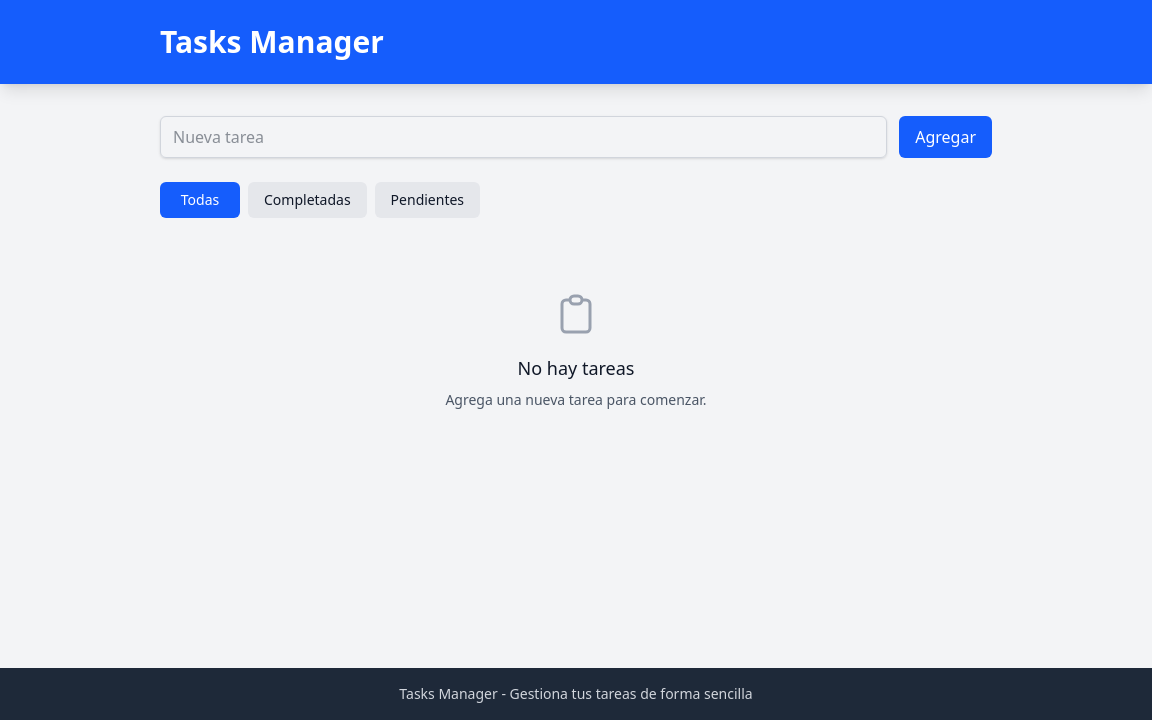
Test: App › complete user flow: add -> view -> complete -> filter › allows adding a new task
Type "Buy groceries" into the field with placeholder "Nueva tarea".
click(524, 137); type("Buy groceries")  # box [160,116,887,158]
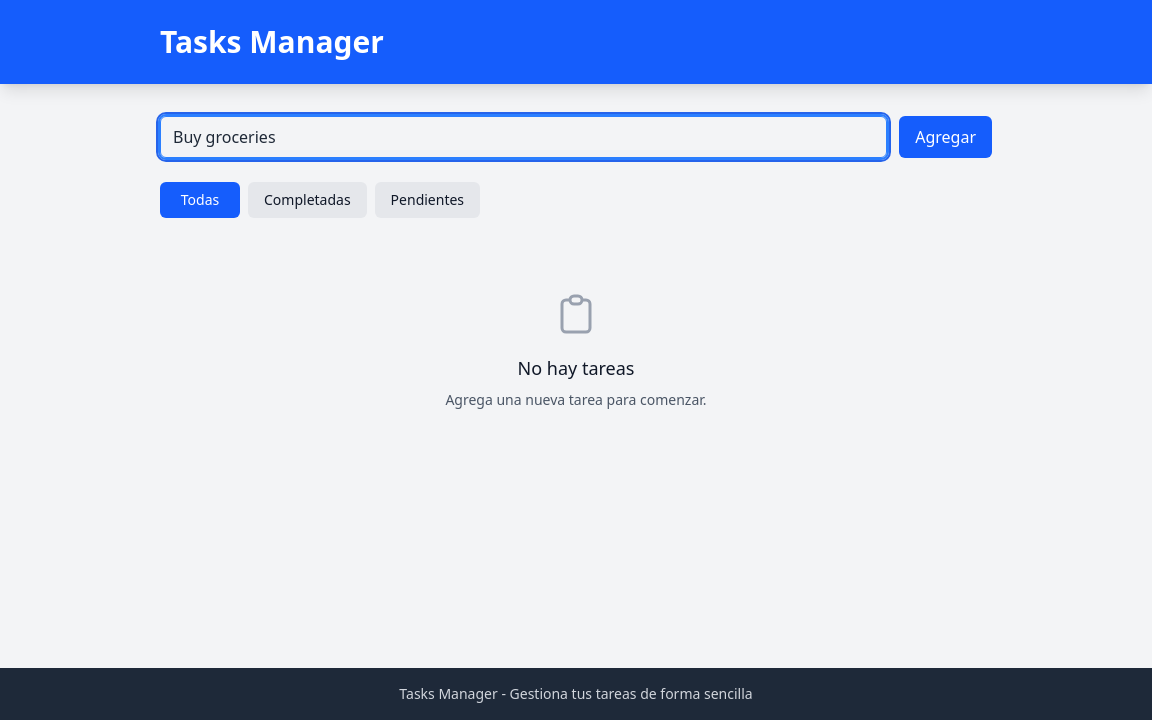
Click the button "Agregar".
click(946, 137)  # box [899,116,992,158]
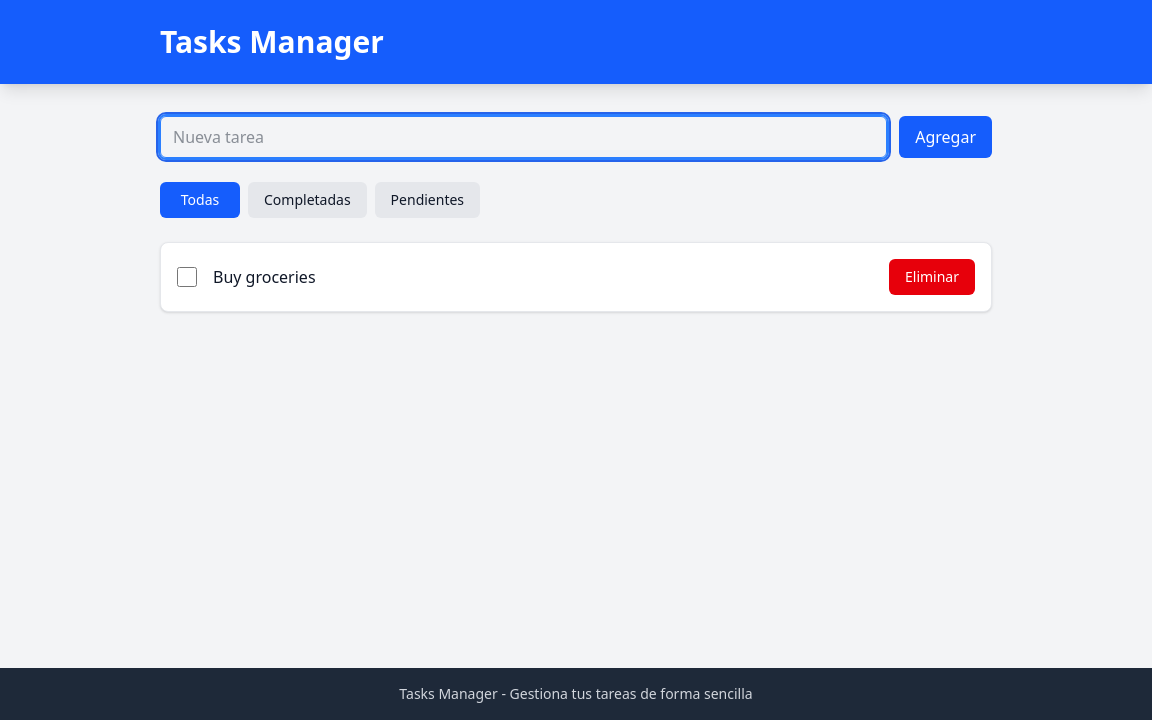
Expected: the button "Buy groceries" is shown, [213,266,316,288]
Expected: the field with placeholder "Nueva tarea" is empty, [160,116,887,158]
